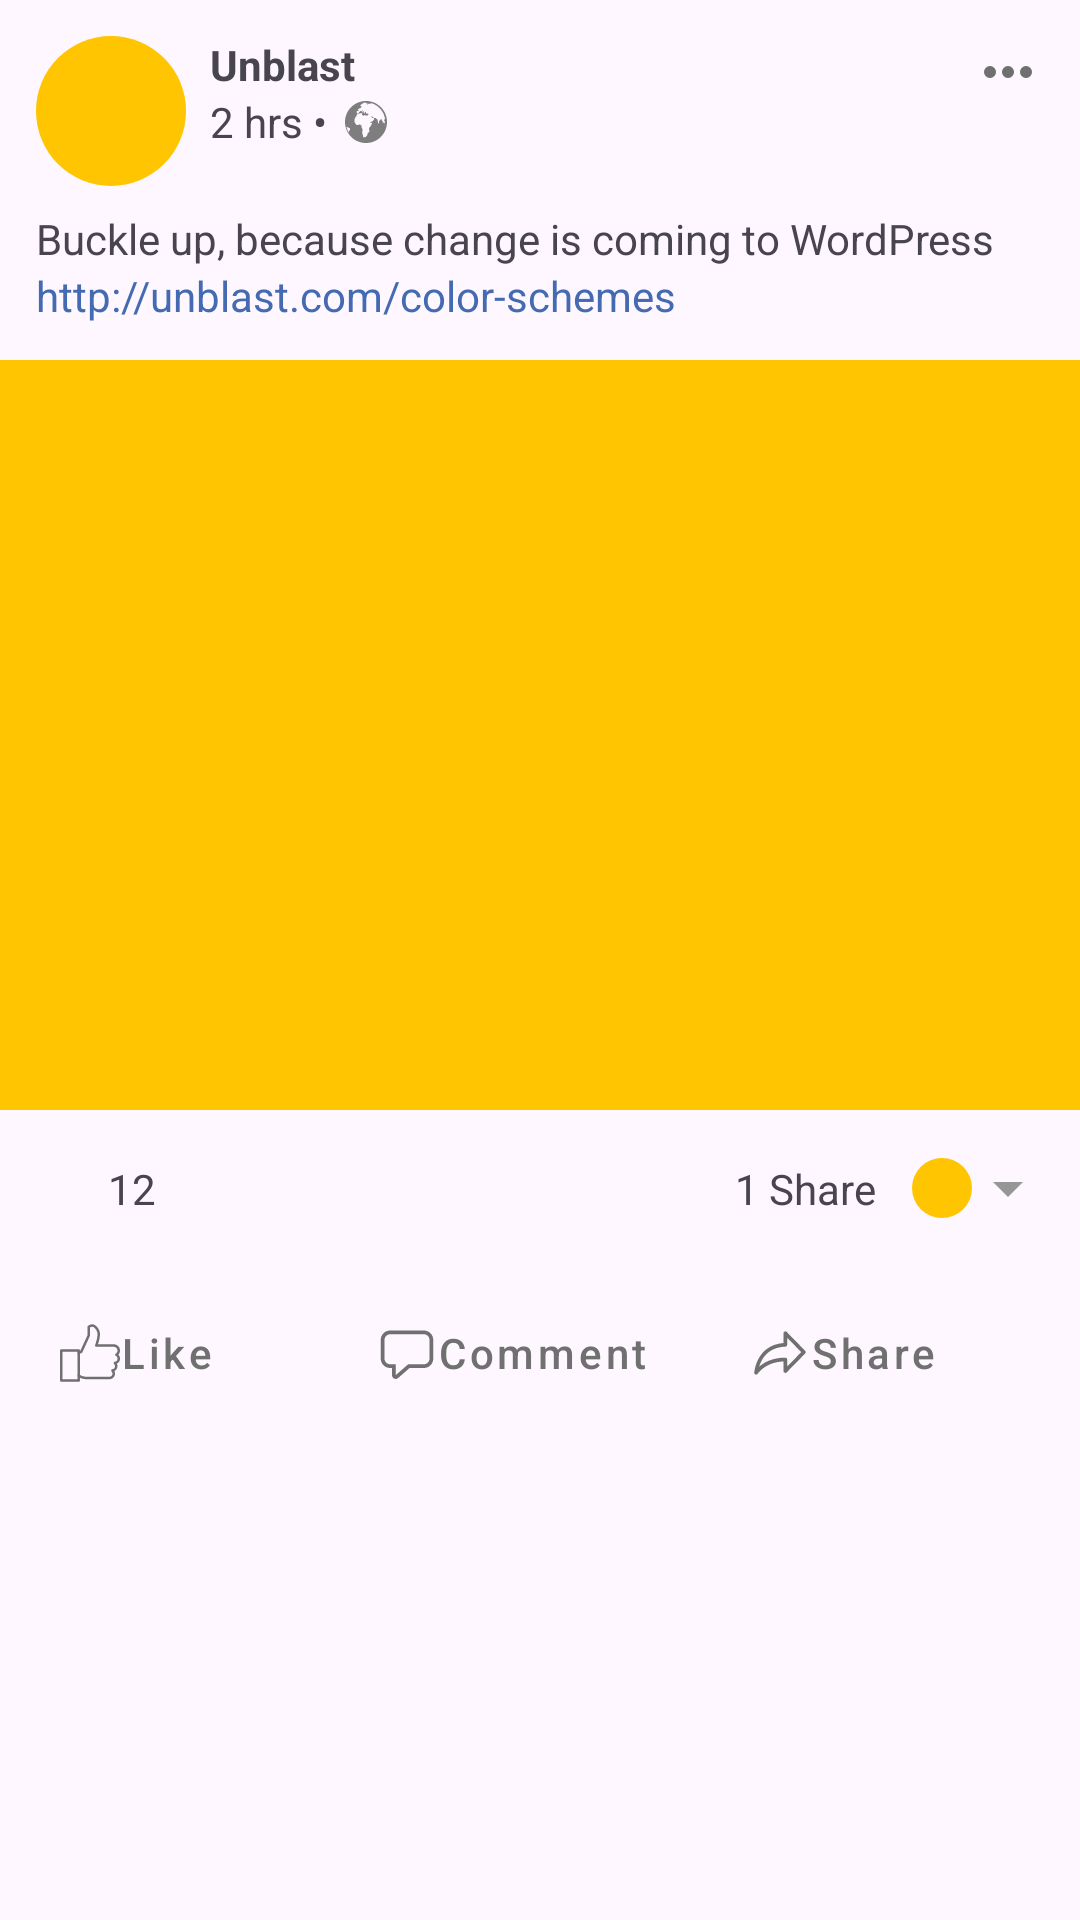

Locate icon controls on the screen. Image size 1080×1920, boxes as (x1, y1, x2, y2).
arrow drop down: (993, 1182, 1023, 1197)
globe: (345, 101, 387, 143)
